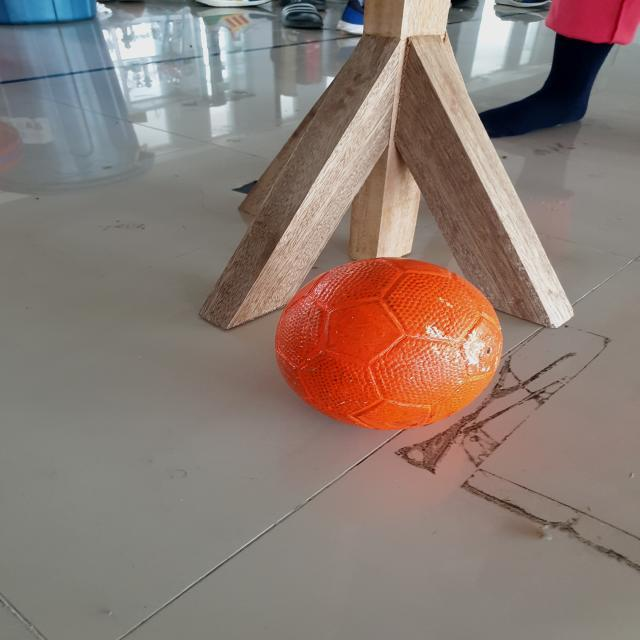bola: (255, 246, 531, 434)
